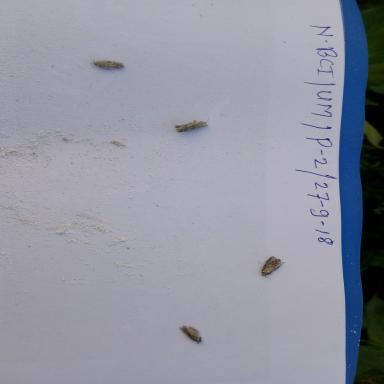pbw: (257, 254, 290, 280), (171, 117, 212, 134), (87, 57, 127, 73), (177, 324, 206, 345)
